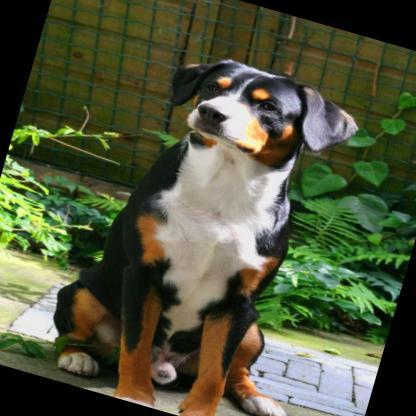EntleBucher: (30, 28, 378, 416)
